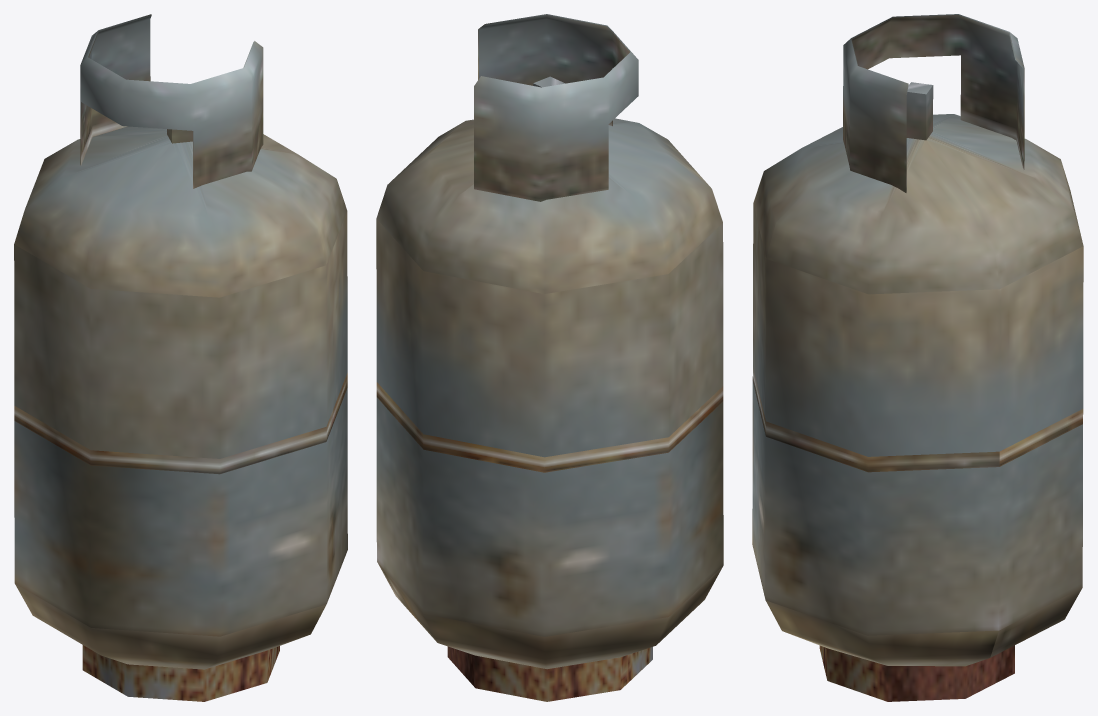
Rendered from GasJar.FBX.
3 renders of one model, left to right at view 1: azimuth 30°, elevation 25°; view 2: azimuth 150°, elevation 25°; view 3: azimuth 270°, elevation 25°, orthographic.
Parts seen in each view (by area): view 1: GasJar; view 2: GasJar; view 3: GasJar.
Part boxes in pixels (box(x1,y1,x2,y2)): GasJar: box(14, 14, 347, 701); GasJar: box(376, 14, 723, 701); GasJar: box(752, 14, 1083, 701).
Size of the model in its own units: 31.25 by 63.81 by 31.33.
Materials: 1 (1 with a texture image).
